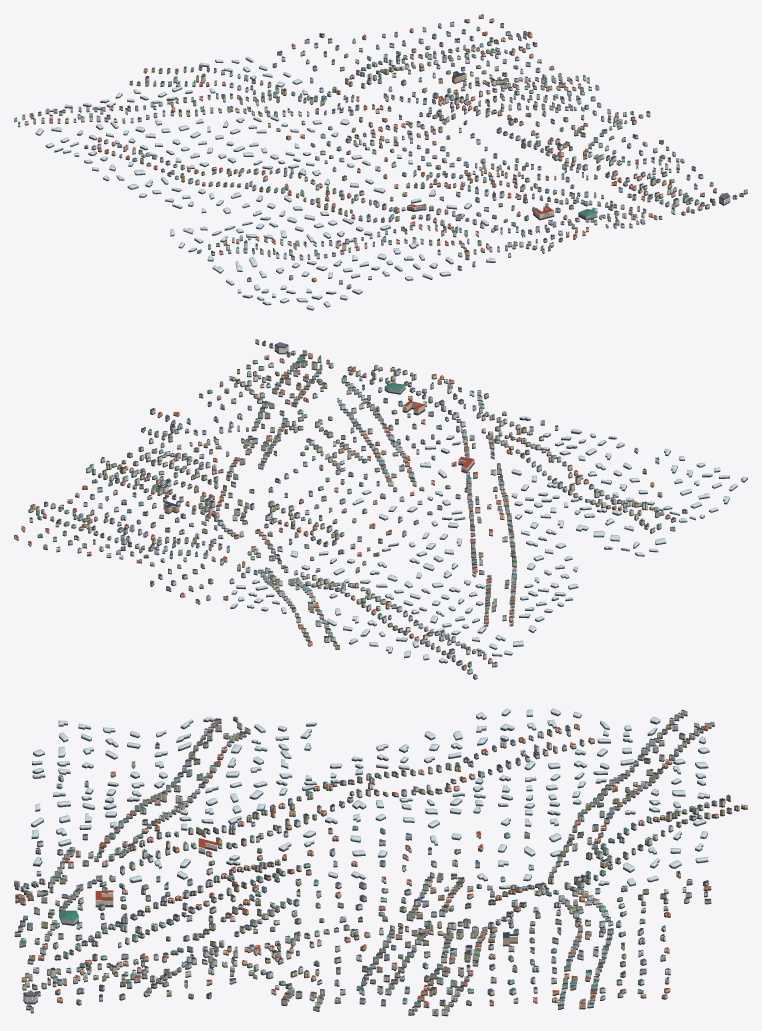
Rendered from osm_buildings_T_W01_N01.glb.
3 views of the same model, one above another, from view 1: azimuth 30°, elevation 25°; view 2: azimuth 150°, elevation 25°; view 3: azimuth 270°, elevation 25° (orthographic). The views are drawn at different scales.
Parts seen in each view (by area): view 1: OSM_T_W01_N01_foundation, OSM_T_W01_N01_greenhouse_blend, OSM_T_W01_N01_wall_cream_stucco, OSM_T_W01_N01_wall_french_ochre, OSM_T_W01_N01_wall_pastel_sand, OSM_T_W01_N01_wall_warm_white, OSM_T_W01_N01_roof_mansard_slate, OSM_T_W01_N01_roof_mint_metal, OSM_T_W01_N01_roof_alpine_blue, OSM_T_W01_N01_roof_terracotta; view 2: OSM_T_W01_N01_foundation, OSM_T_W01_N01_greenhouse_blend, OSM_T_W01_N01_wall_cream_stucco, OSM_T_W01_N01_wall_french_ochre, OSM_T_W01_N01_wall_pastel_sand, OSM_T_W01_N01_wall_warm_white, OSM_T_W01_N01_roof_mansard_slate, OSM_T_W01_N01_roof_mint_metal, OSM_T_W01_N01_roof_alpine_blue, OSM_T_W01_N01_roof_terracotta; view 3: OSM_T_W01_N01_foundation, OSM_T_W01_N01_greenhouse_blend, OSM_T_W01_N01_wall_cream_stucco, OSM_T_W01_N01_wall_french_ochre, OSM_T_W01_N01_wall_pastel_sand, OSM_T_W01_N01_wall_warm_white, OSM_T_W01_N01_roof_mansard_slate, OSM_T_W01_N01_roof_mint_metal, OSM_T_W01_N01_roof_alpine_blue, OSM_T_W01_N01_roof_terracotta, OSM_T_W01_N01_roof_mansard_deck, OSM_T_W01_N01_glass_blend_85.
Boxes of the visible parts, left/top/right/bottom form: OSM_T_W01_N01_foundation: left=14, top=17, right=747, bottom=310; OSM_T_W01_N01_greenhouse_blend: left=35, top=56, right=495, bottom=309; OSM_T_W01_N01_wall_cream_stucco: left=14, top=15, right=747, bottom=280; OSM_T_W01_N01_wall_french_ochre: left=29, top=19, right=743, bottom=281; OSM_T_W01_N01_wall_pastel_sand: left=31, top=27, right=699, bottom=288; OSM_T_W01_N01_wall_warm_white: left=18, top=24, right=730, bottom=278; OSM_T_W01_N01_roof_mansard_slate: left=18, top=21, right=743, bottom=280; OSM_T_W01_N01_roof_mint_metal: left=22, top=26, right=747, bottom=276; OSM_T_W01_N01_roof_alpine_blue: left=14, top=23, right=714, bottom=285; OSM_T_W01_N01_roof_terracotta: left=25, top=14, right=716, bottom=278; OSM_T_W01_N01_foundation: left=14, top=343, right=747, bottom=679; OSM_T_W01_N01_greenhouse_blend: left=230, top=416, right=747, bottom=662; OSM_T_W01_N01_wall_cream_stucco: left=14, top=340, right=687, bottom=678; OSM_T_W01_N01_wall_french_ochre: left=21, top=341, right=654, bottom=669; OSM_T_W01_N01_wall_pastel_sand: left=36, top=358, right=675, bottom=666; OSM_T_W01_N01_wall_warm_white: left=28, top=345, right=658, bottom=673; OSM_T_W01_N01_roof_mansard_slate: left=30, top=340, right=687, bottom=664; OSM_T_W01_N01_roof_mint_metal: left=36, top=339, right=675, bottom=670; OSM_T_W01_N01_roof_alpine_blue: left=29, top=350, right=659, bottom=676; OSM_T_W01_N01_roof_terracotta: left=14, top=353, right=670, bottom=667; OSM_T_W01_N01_foundation: left=14, top=711, right=747, bottom=1016; OSM_T_W01_N01_greenhouse_blend: left=31, top=708, right=709, bottom=887; OSM_T_W01_N01_wall_cream_stucco: left=15, top=714, right=725, bottom=1011; OSM_T_W01_N01_wall_french_ochre: left=14, top=725, right=747, bottom=1009; OSM_T_W01_N01_wall_pastel_sand: left=15, top=715, right=731, bottom=1014; OSM_T_W01_N01_wall_warm_white: left=18, top=710, right=711, bottom=1015; OSM_T_W01_N01_roof_mansard_slate: left=14, top=709, right=739, bottom=1010; OSM_T_W01_N01_roof_mint_metal: left=19, top=716, right=716, bottom=1010; OSM_T_W01_N01_roof_alpine_blue: left=15, top=714, right=714, bottom=1004; OSM_T_W01_N01_roof_terracotta: left=15, top=712, right=747, bottom=1003; OSM_T_W01_N01_roof_mansard_deck: left=24, top=718, right=724, bottom=1005; OSM_T_W01_N01_glass_blend_85: left=18, top=720, right=729, bottom=1014.
Size of the model in its own units: 1911 by 99.42 by 1967.
